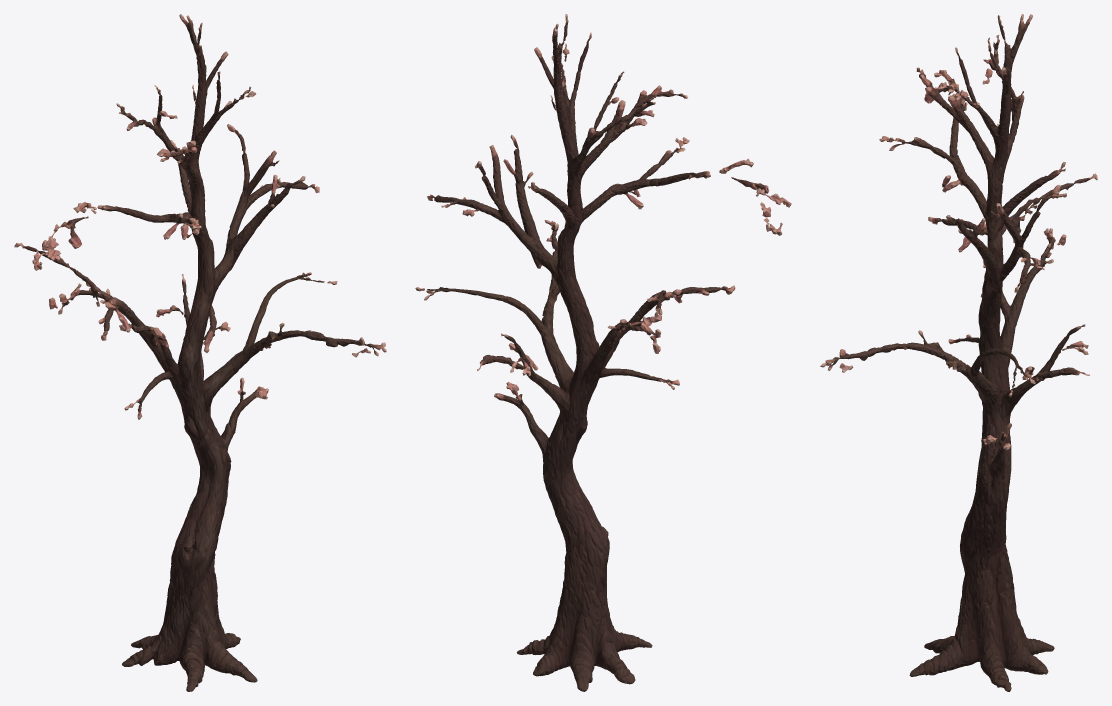
3 renders of one model, left to right at view 1: azimuth 30°, elevation 25°; view 2: azimuth 150°, elevation 25°; view 3: azimuth 270°, elevation 25°, orthographic. The views are drawn at different scales.
Parts seen in each view (by area): view 1: model; view 2: model; view 3: model.
Part boxes in pixels (<box>): model: <box>14,14,386,691</box>; model: <box>415,14,791,691</box>; model: <box>820,14,1097,691</box>.
Bounding box in the file's own units: 1.03 × 1.88 × 0.7217.
Materials: 1 (1 with a texture image).
